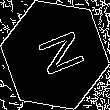N_W: (26, 27, 84, 83)
